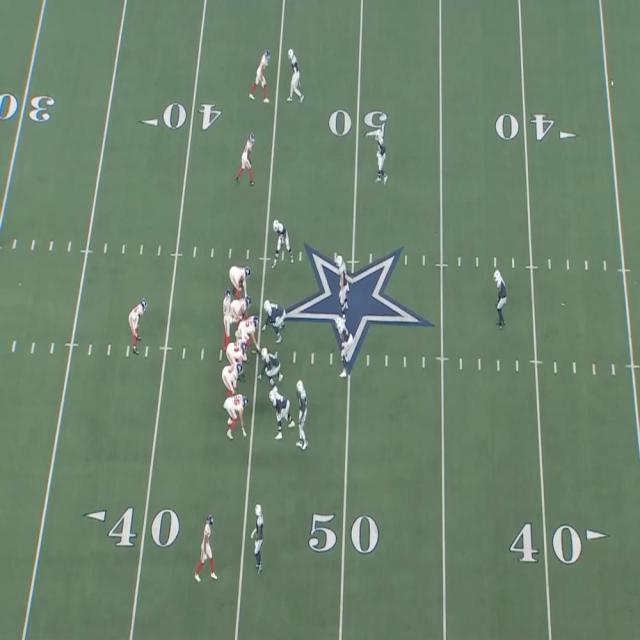center: (242, 316, 262, 354)
db: (251, 502, 265, 571), (495, 269, 509, 324), (287, 48, 300, 104), (377, 122, 388, 182)
lb: (335, 315, 351, 379), (298, 378, 309, 446), (335, 252, 349, 305)
qb: (224, 290, 237, 342)
skill: (198, 516, 218, 580), (226, 391, 248, 437), (129, 298, 147, 350), (239, 135, 256, 183), (254, 49, 270, 99)
